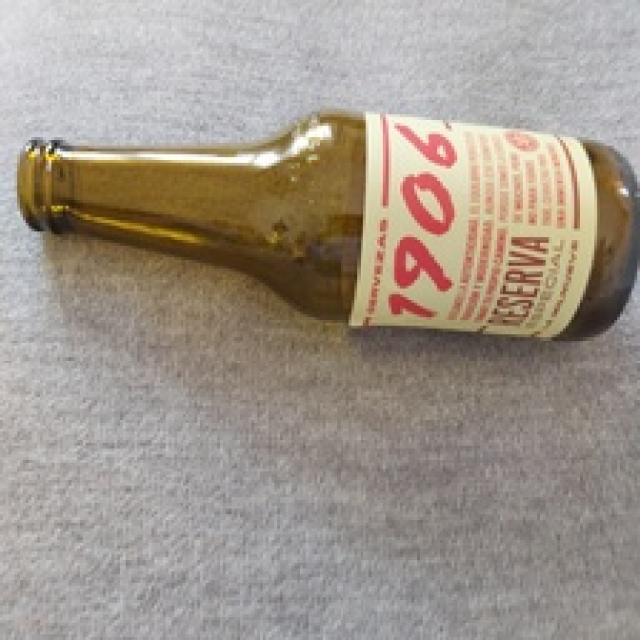Glass: (21, 112, 640, 346)
